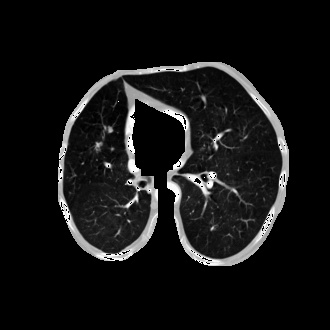PN: (106, 125, 114, 133)
